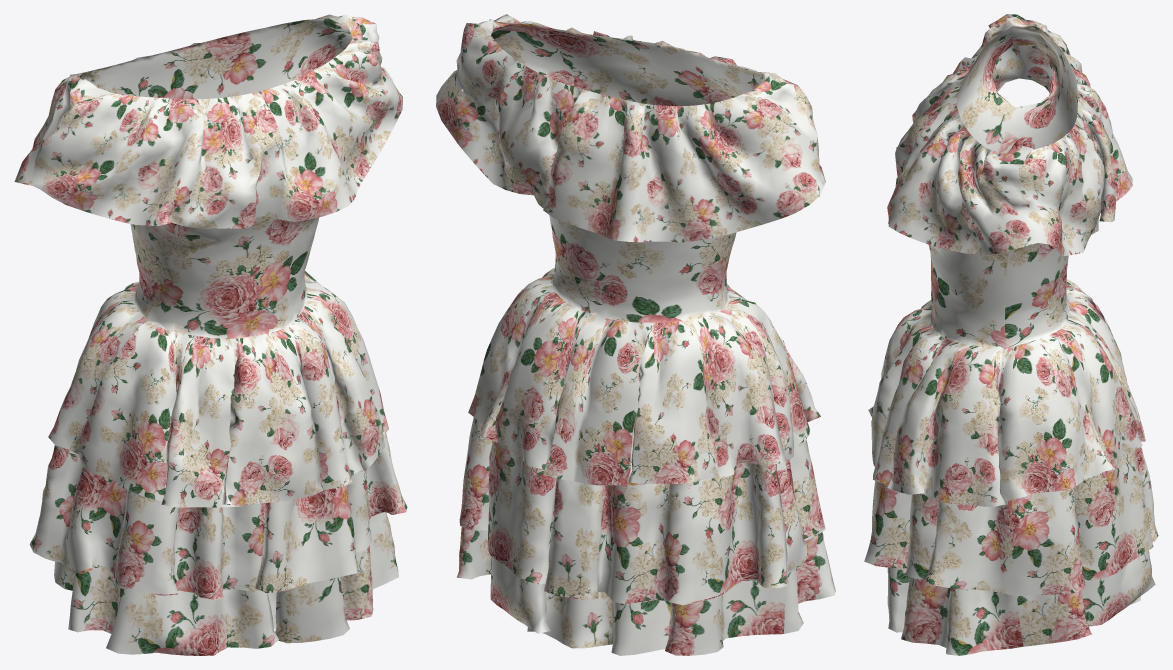
3 views of the same model, side by side, from view 1: azimuth 30°, elevation 25°; view 2: azimuth 150°, elevation 25°; view 3: azimuth 270°, elevation 25° (orthographic). The views are drawn at different scales.
Visible parts, largest first — view 1: to max from substance; view 2: to max from substance; view 3: to max from substance.
Boxes of the visible parts, x1,y1,x2,y2 form: to max from substance: (14,14,407,655); to max from substance: (436,14,835,655); to max from substance: (864,14,1158,655).
Bounding box in the file's own units: 57.32 × 81.23 × 41.27.
Materials: 5 (5 with a texture image).
